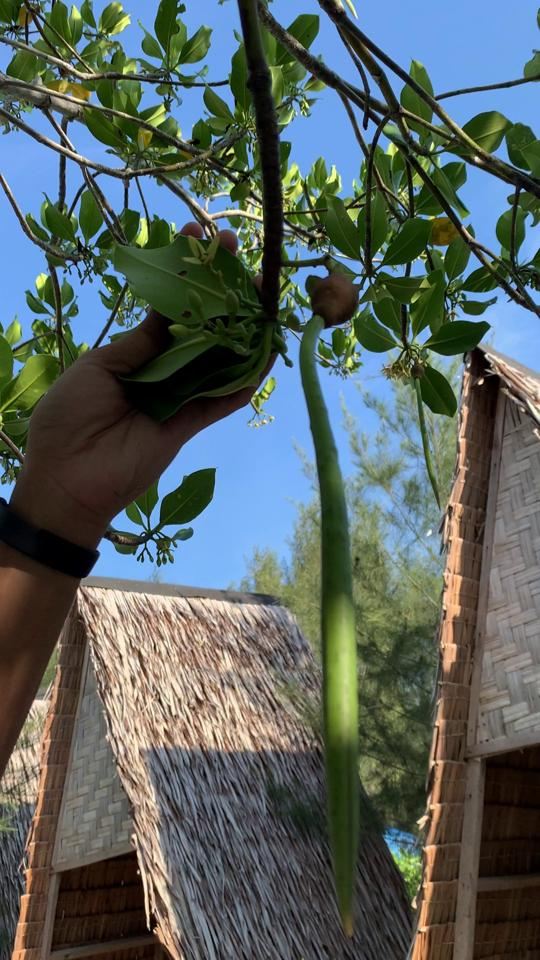mentah: (285, 248, 382, 945)
